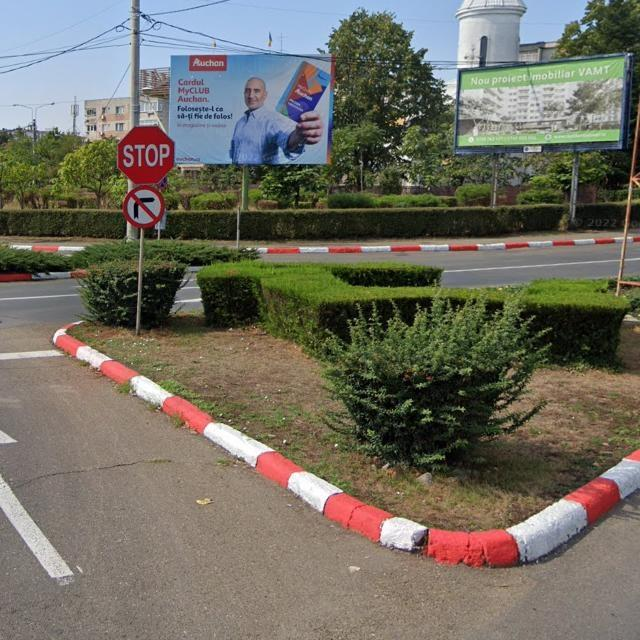prio_stop: (118, 128, 178, 186)
